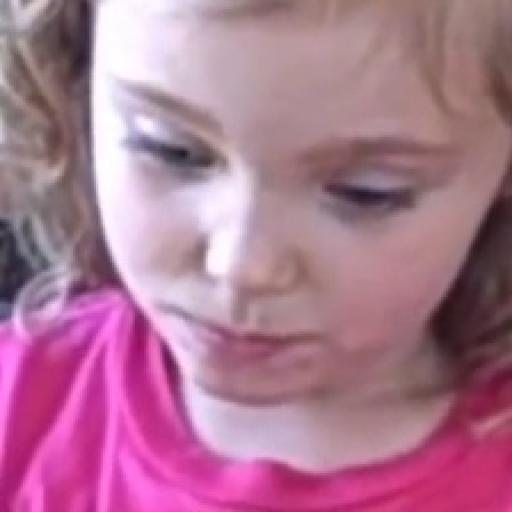Autism: (87, 0, 512, 400)
